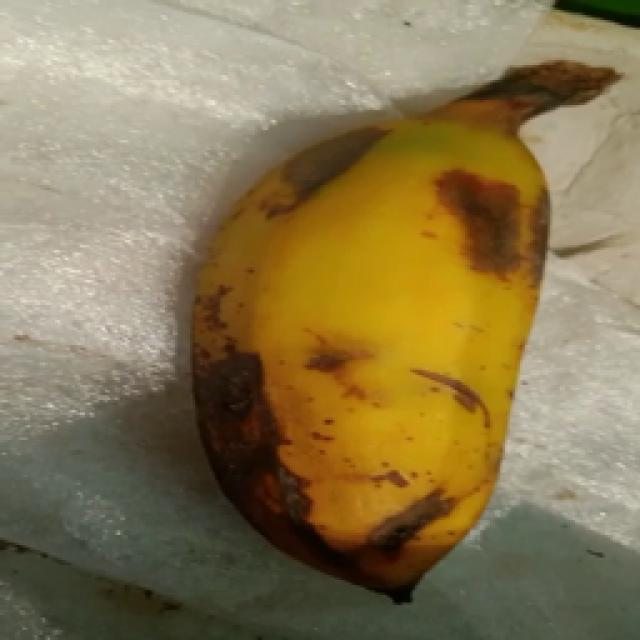Rotten_Banana: (183, 29, 625, 600)
